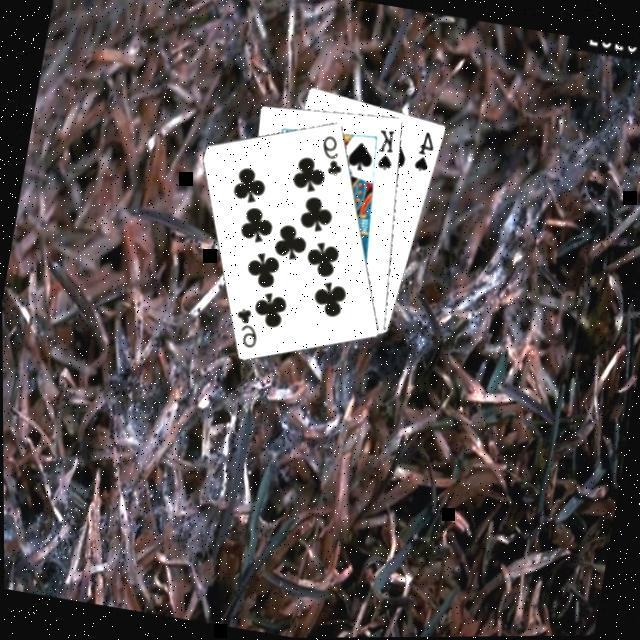4S: (407, 128, 438, 176)
9C: (225, 302, 262, 352), (312, 131, 348, 181)
KS: (367, 126, 398, 176)
